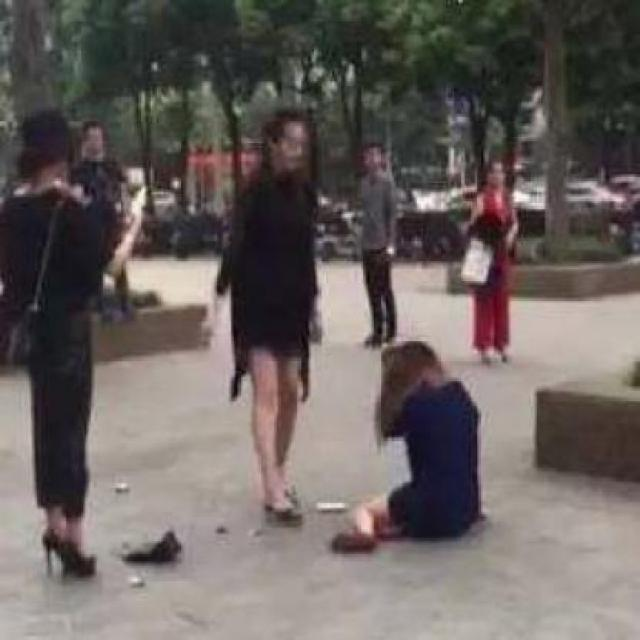fall: (328, 326, 488, 554)
